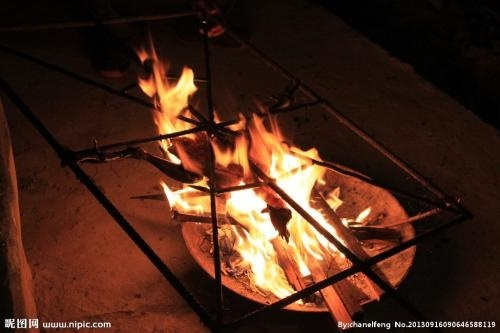fire: (170, 113, 350, 287), (138, 44, 199, 161)
